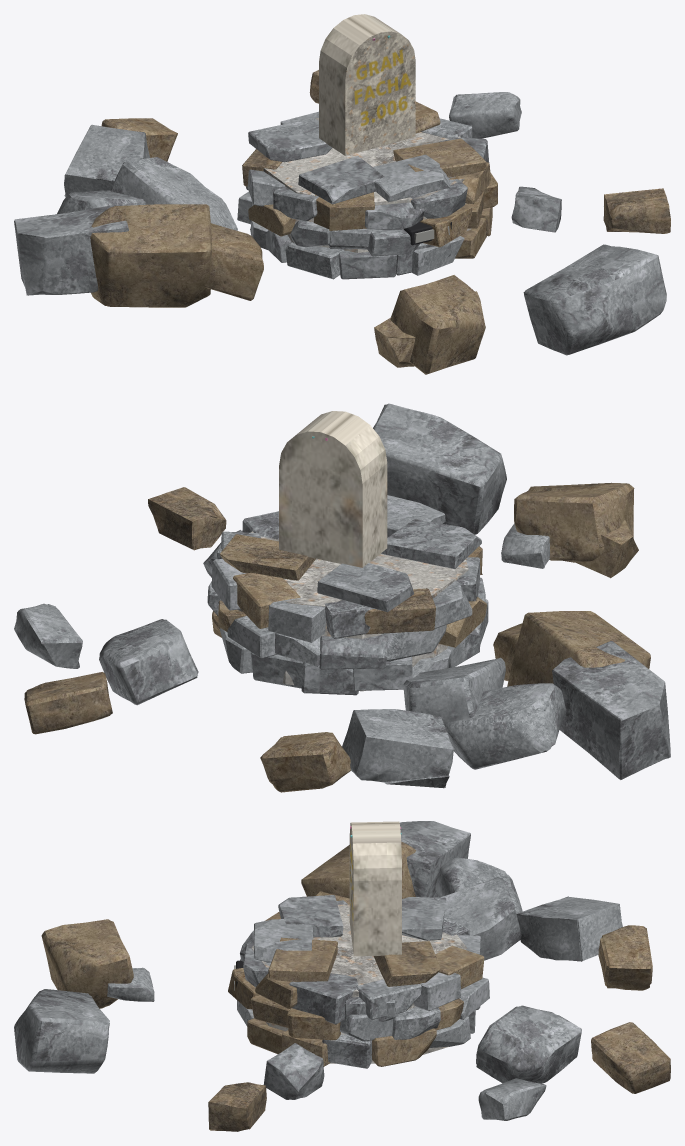
The model's file is cima-gran-facha.glb.
3 renders of one model, top to bottom at view 1: azimuth 30°, elevation 25°; view 2: azimuth 150°, elevation 25°; view 3: azimuth 270°, elevation 25°, orthographic. The views are drawn at different scales.
Parts seen in each view (by area): view 1: hito_granito_gris, placa_pilar, bloque1, bloque0, hito_granito_ocre, bloque10, bloque6, bloque15, bloque2, bloque13, hito_cemento, bloque5 (+5 smaller); view 2: hito_granito_gris, placa_pilar, bloque0, bloque6, hito_granito_ocre, bloque2, bloque12, bloque10, bloque1, bloque14, bloque15, bloque11 (+7 smaller); view 3: hito_granito_gris, hito_granito_ocre, placa_pilar, bloque0, bloque14, bloque10, bloque2, bloque15, bloque8, bloque6, bloque11, hito_cemento (+6 smaller).
Part boxes in pixels (box(x1,y1,x2,y2)): hito_granito_gris: box(237, 111, 489, 279); placa_pilar: box(319, 14, 415, 155); bloque1: box(90, 204, 211, 307); bloque0: box(523, 244, 666, 355); hito_granito_ocre: box(242, 101, 497, 258); bloque10: box(390, 275, 485, 374); bloque6: box(14, 205, 128, 295); bloque15: box(110, 157, 237, 230); bloque2: box(64, 124, 149, 196); bloque13: box(205, 223, 263, 300); hito_cemento: box(263, 118, 471, 252); bloque5: box(603, 188, 670, 233); hito_granito_gris: box(207, 495, 488, 695); placa_pilar: box(279, 411, 387, 567); bloque0: box(373, 403, 506, 534); bloque6: box(552, 641, 670, 779); hito_granito_ocre: box(212, 534, 486, 647); bloque2: box(342, 709, 453, 788); bloque12: box(444, 683, 566, 769); bloque10: box(514, 482, 634, 562); bloque1: box(507, 611, 650, 686); bloque14: box(99, 619, 198, 705); bloque15: box(403, 657, 505, 724); bloque11: box(260, 732, 350, 792); hito_granito_gris: box(237, 895, 489, 1068); hito_granito_ocre: box(228, 912, 484, 1066); placa_pilar: box(349, 821, 401, 956); bloque0: box(14, 989, 109, 1073); bloque14: box(476, 1005, 581, 1083); bloque10: box(41, 919, 133, 1008); bloque2: box(516, 896, 622, 961); bloque15: box(440, 877, 521, 960); bloque8: box(591, 1022, 670, 1093); bloque6: box(399, 821, 470, 897); bloque11: box(598, 925, 652, 990); hito_cemento: box(251, 904, 466, 1063).
Bounding box in the file's own units: 4.56 × 1.71 × 4.75.
8 materials, 4 textured.
